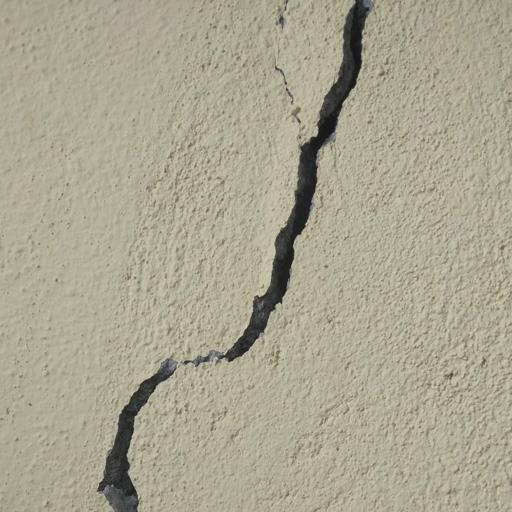major_crack: (96, 0, 380, 501)
